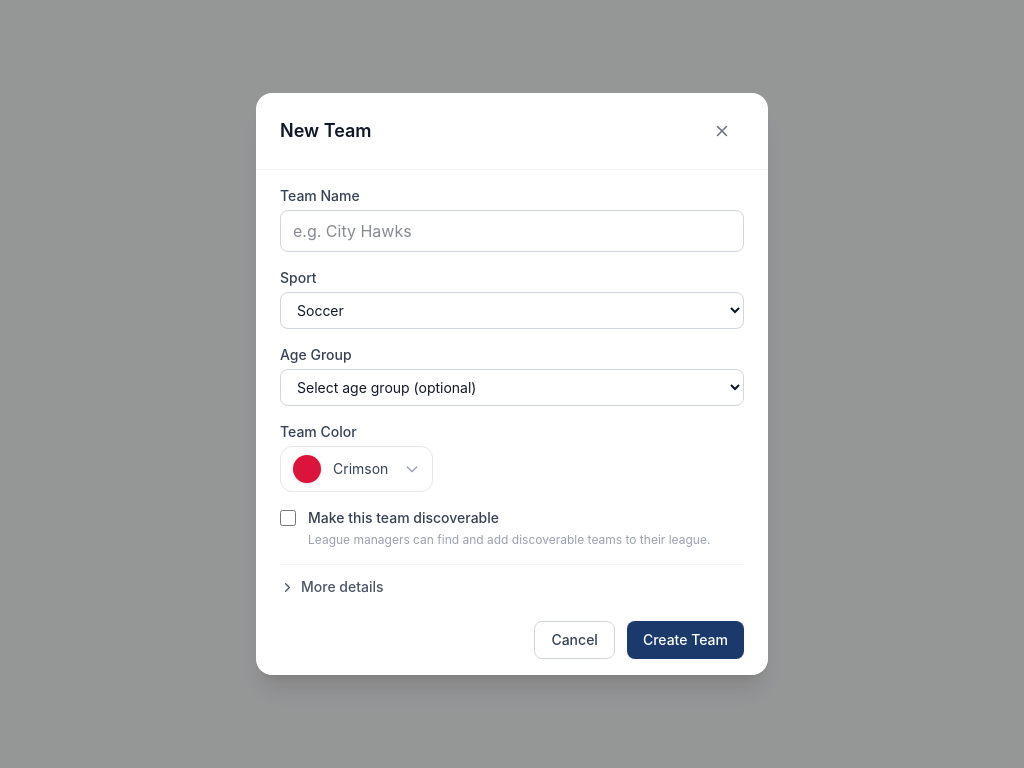
TeamForm — CF error shows error banner › maps "Missing or insufficient permissions" to a friendly message
Type "New Team" into the field labelled "Team Name" at (512, 231), box [280,210,744,252]
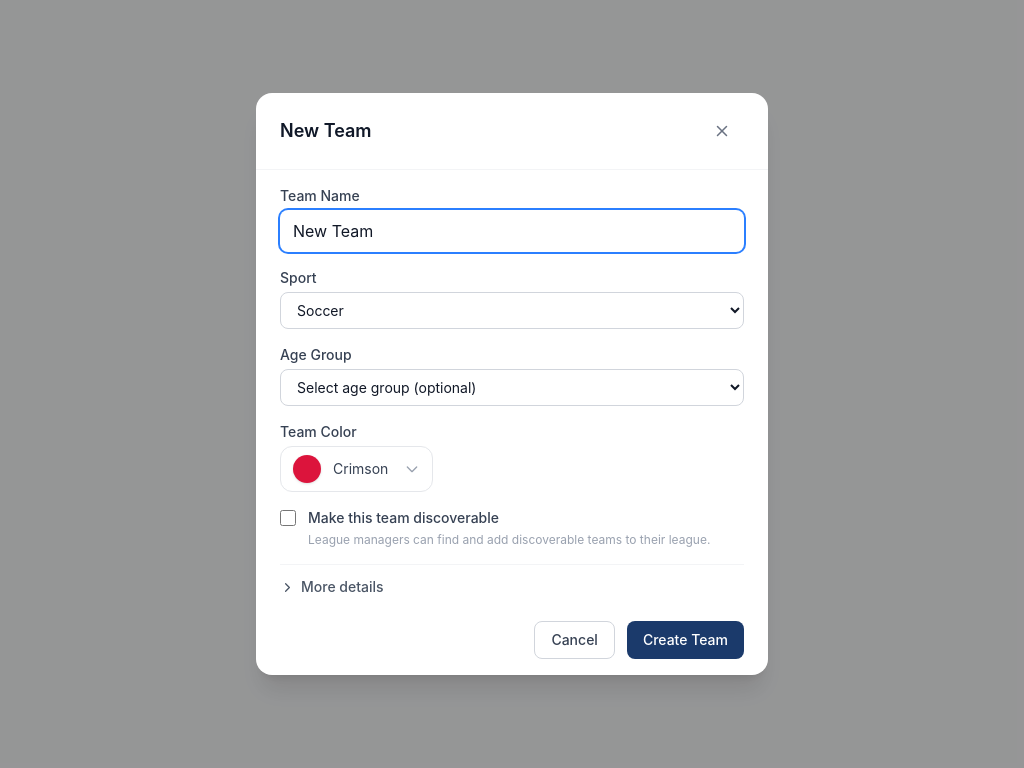
Click the button "Create Team" at (685, 640), box [627,621,744,659]
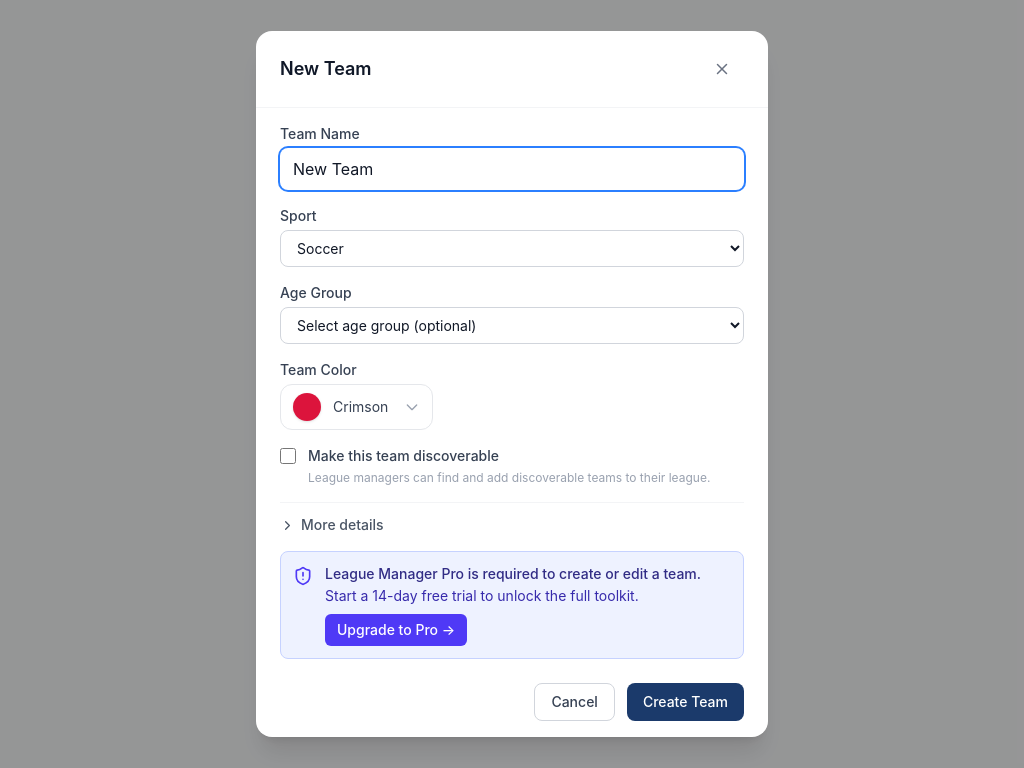
Now the text "League Manager Pro is required to create or edit a team." is shown, box [325,564,731,584]
